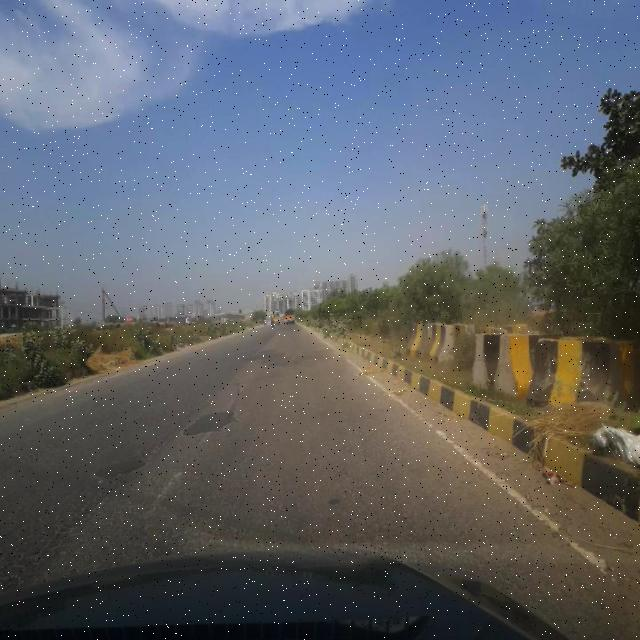D20: (1, 455, 573, 549)
